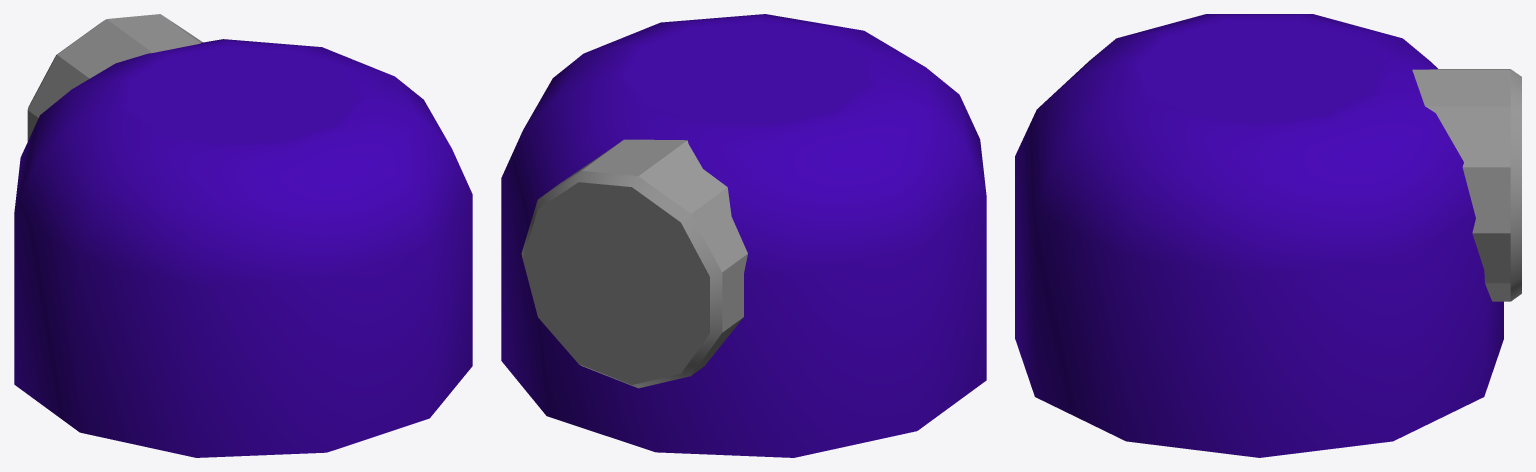
Rendered from Player 2 cockpit.fbx.
3 renders of one model, left to right at view 1: azimuth 30°, elevation 25°; view 2: azimuth 150°, elevation 25°; view 3: azimuth 270°, elevation 25°, orthographic. The views are drawn at different scales.
Parts seen in each view (by area): view 1: Object002; view 2: Object002; view 3: Object002.
Boxes of the visible parts, x1=… form: Object002: x1=14, y1=14, x2=472, y2=457; Object002: x1=501, y1=14, x2=986, y2=457; Object002: x1=1015, y1=14, x2=1521, y2=457.
Size of the model in its own units: 62.16 by 40.04 by 65.08.
